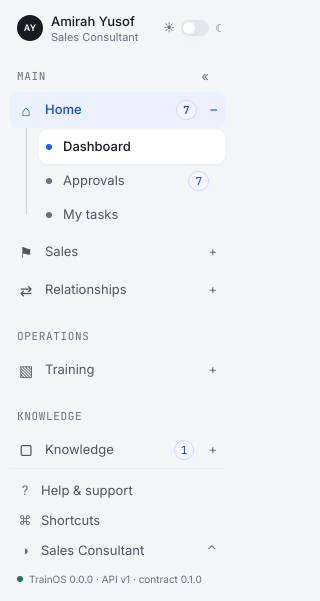
Test: Sidebar › the rail collapses, from the MAIN caption row › keeps the control where the caption row was, once the rail is closed
Click the button named "the sidebar" at {"x": 205, "y": 76}, box [193,64,217,88]
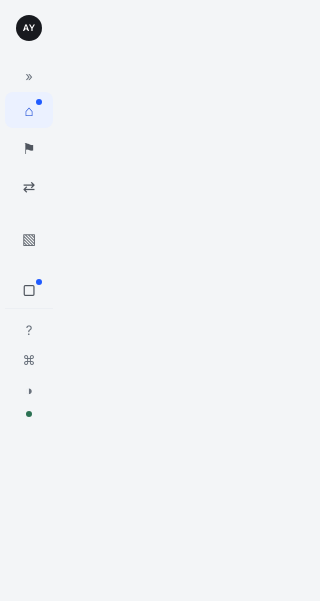
Now the text "Main" is gone
